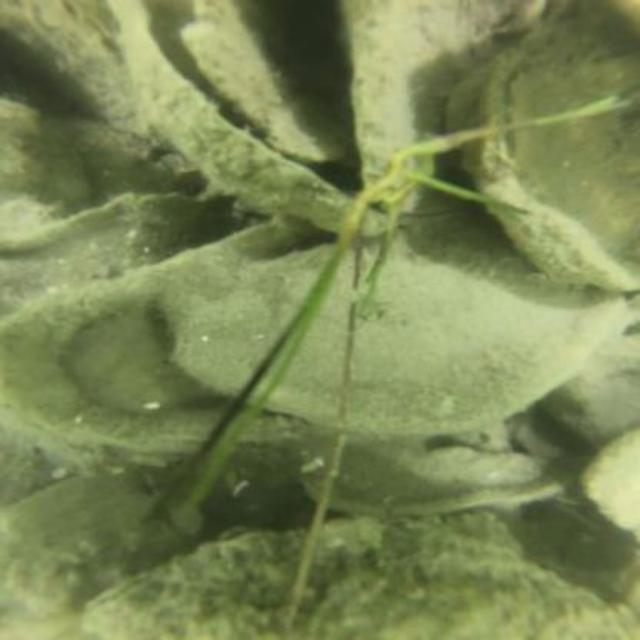Oyster-Closed: (164, 236, 626, 430), (0, 213, 344, 450), (83, 522, 632, 638), (447, 0, 638, 299), (2, 471, 194, 638), (183, 0, 343, 161), (543, 326, 638, 446), (0, 104, 82, 236), (421, 436, 539, 486), (581, 426, 638, 527)
Oyster-Open: (122, 0, 418, 231)
